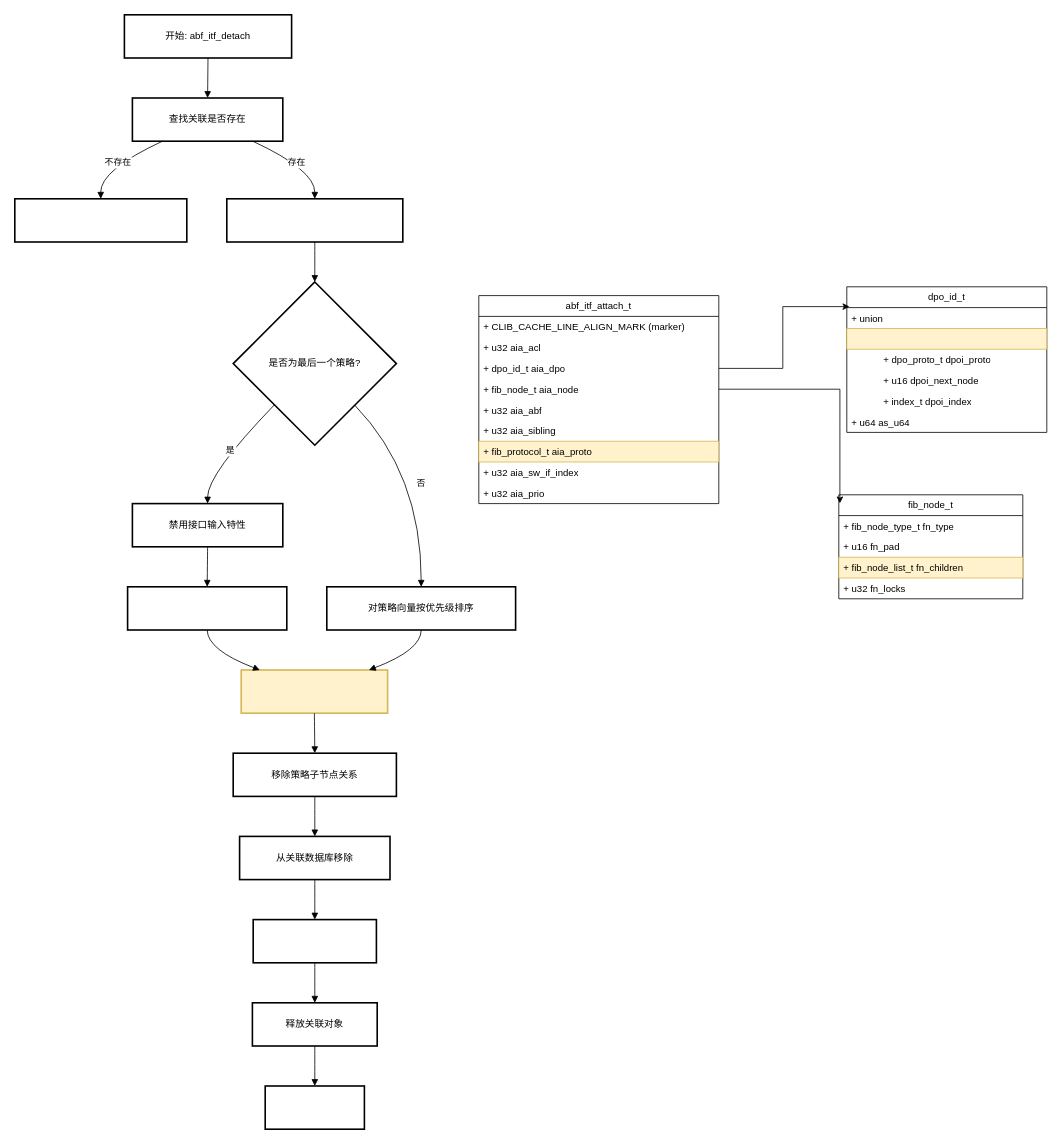
The diagram is 1061 pixels wide and 1143 high, and some of its shapes have lost their labels. Here are the shapes that lost their labels. From the top down, the centre of each, then its label:
the point at 100,220: 返回错误: 关联不存在
the point at 314,220: 从接口策略向量中移除
the point at 946,338: + dpo_type_t dpoi_type
the point at 206,608: 释放ACL查找上下文
the point at 314,691: 设置ACL查找向量
the point at 314,940: 释放DPO资源
the point at 314,1107: 返回成功
